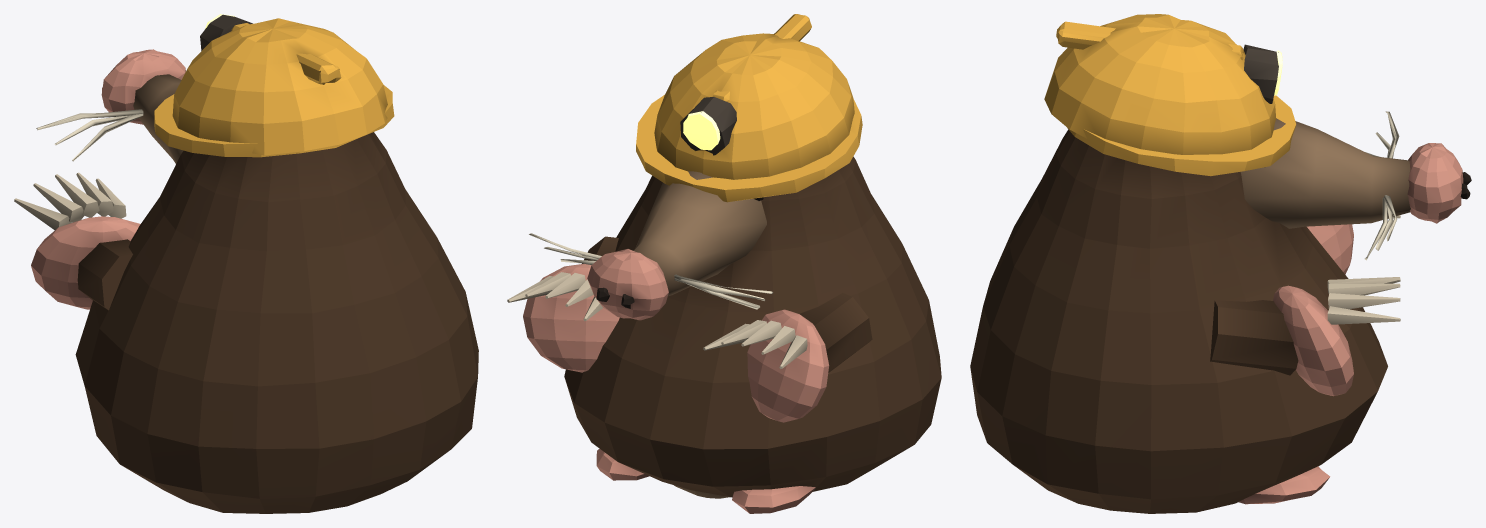
The model's file is mole.glb.
3 views of the same model, side by side, from view 1: azimuth 30°, elevation 25°; view 2: azimuth 150°, elevation 25°; view 3: azimuth 270°, elevation 25° (orthographic). The views are drawn at different scales.
Parts seen in each view (by area): view 1: Mole, Claws; view 2: Mole, Claws; view 3: Mole, Claws.
Part boxes in pixels (x1,y1,x2,y2): Mole: (36,14,478,513); Claws: (14,172,140,310); Mole: (529,14,941,513); Claws: (507,236,872,422); Mole: (970,14,1471,513); Claws: (1210,215,1400,396).
Size of the model in its own units: 0.4311 by 0.5194 by 0.5336.
